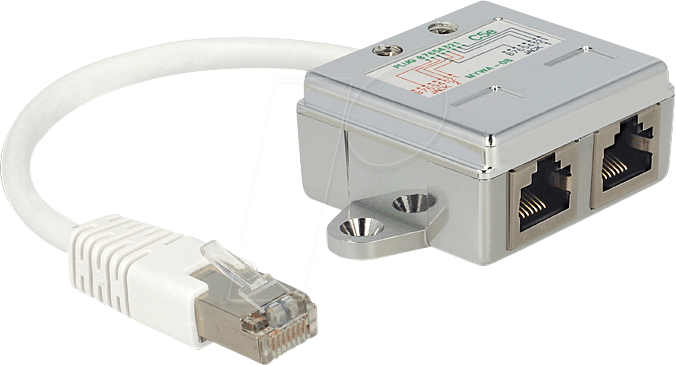lan: (506, 147, 580, 236), (595, 109, 660, 195)
